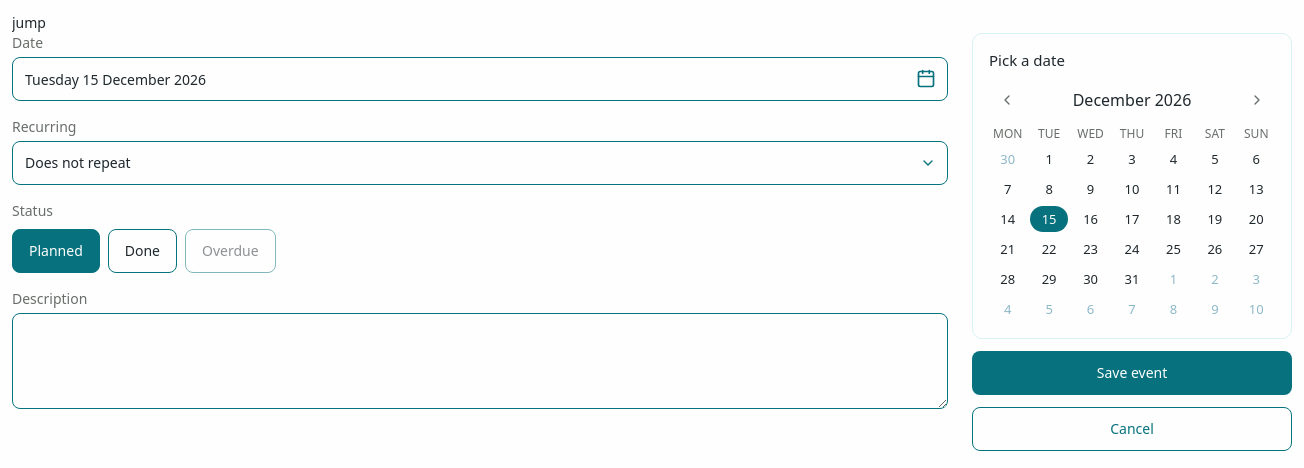
[FAM-16][AC-06] EventForm's calendar follows the active date › [FAM-16][AC-06] picking a spill-over day from the next month shows that month
Step 1. Click the button with test id "date-picker-day-2027-01-02" → click(1215, 279), box [1196,266,1234,292]
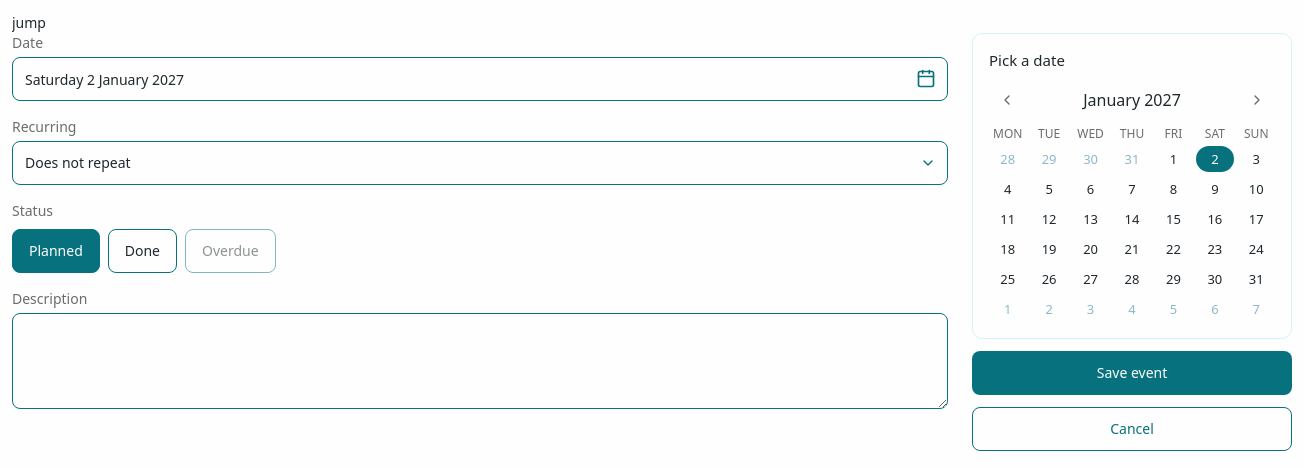
expect the text "January 2027" is shown: met, box [1083,89,1181,111]
